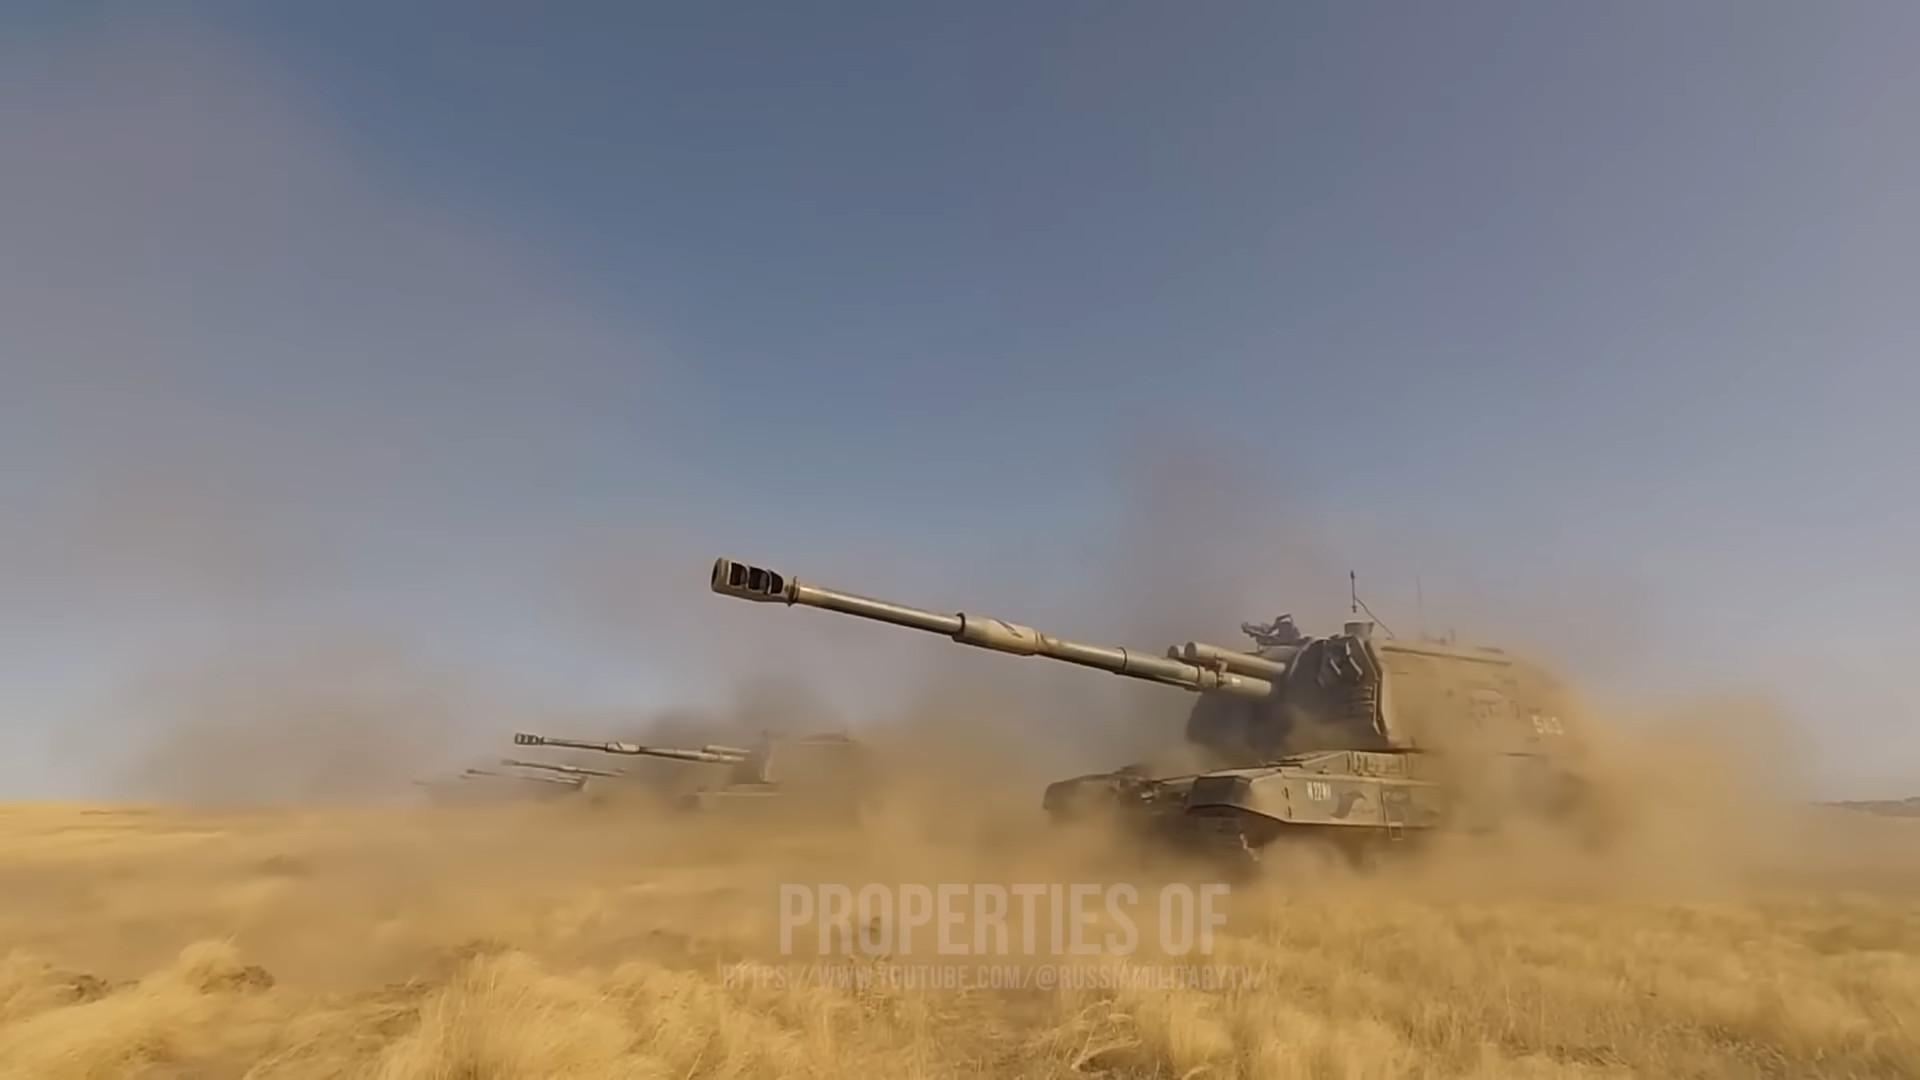tank: (707, 554, 1634, 874), (514, 732, 876, 820)
